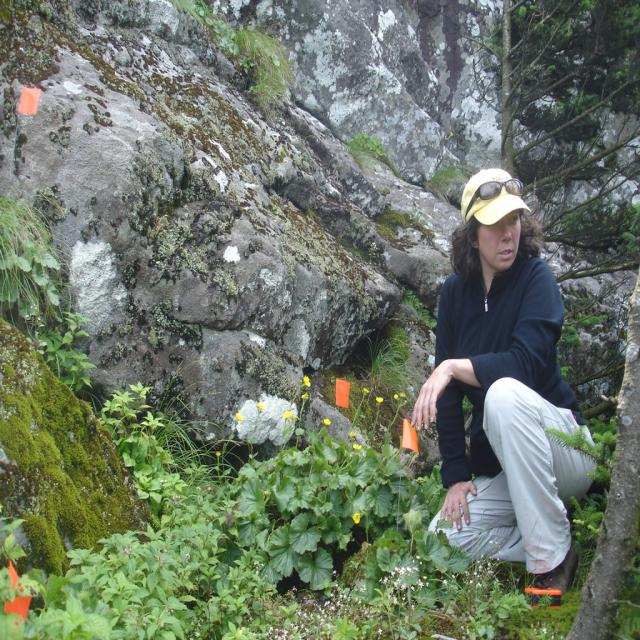Glasses: (466, 171, 524, 227)
